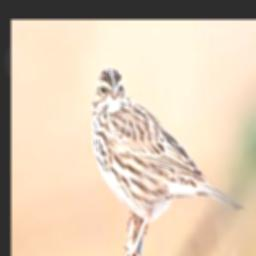Sparrow: (91, 67, 244, 256)
